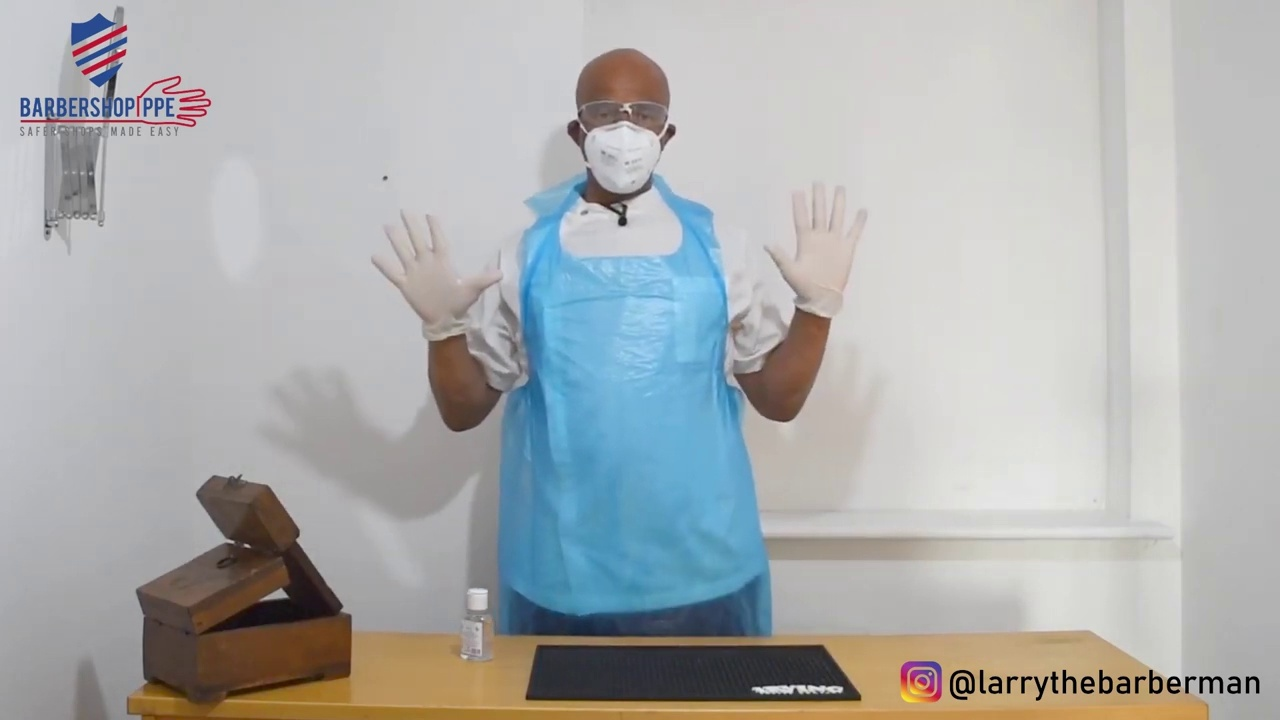Apron: (470, 168, 782, 646)
Glove: (364, 196, 511, 356), (726, 172, 875, 328)
Mask: (546, 114, 687, 199)
No_Hairnet: (560, 40, 674, 128)
